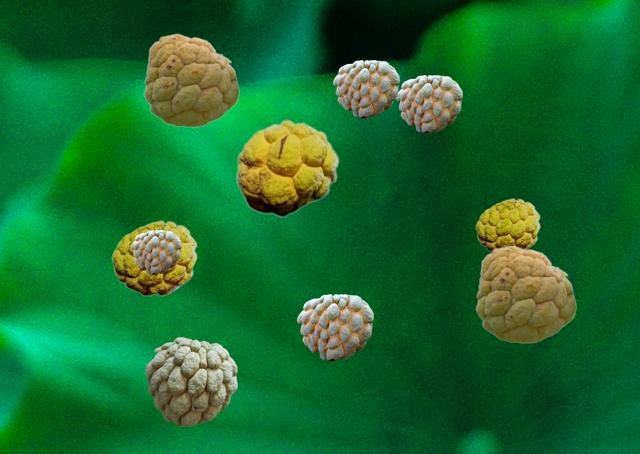atis: (235, 119, 338, 216), (475, 245, 575, 342), (143, 33, 238, 126), (145, 337, 236, 425), (111, 220, 196, 295), (297, 294, 372, 360), (396, 75, 461, 132), (333, 60, 398, 117), (475, 198, 539, 251), (131, 230, 180, 273)
